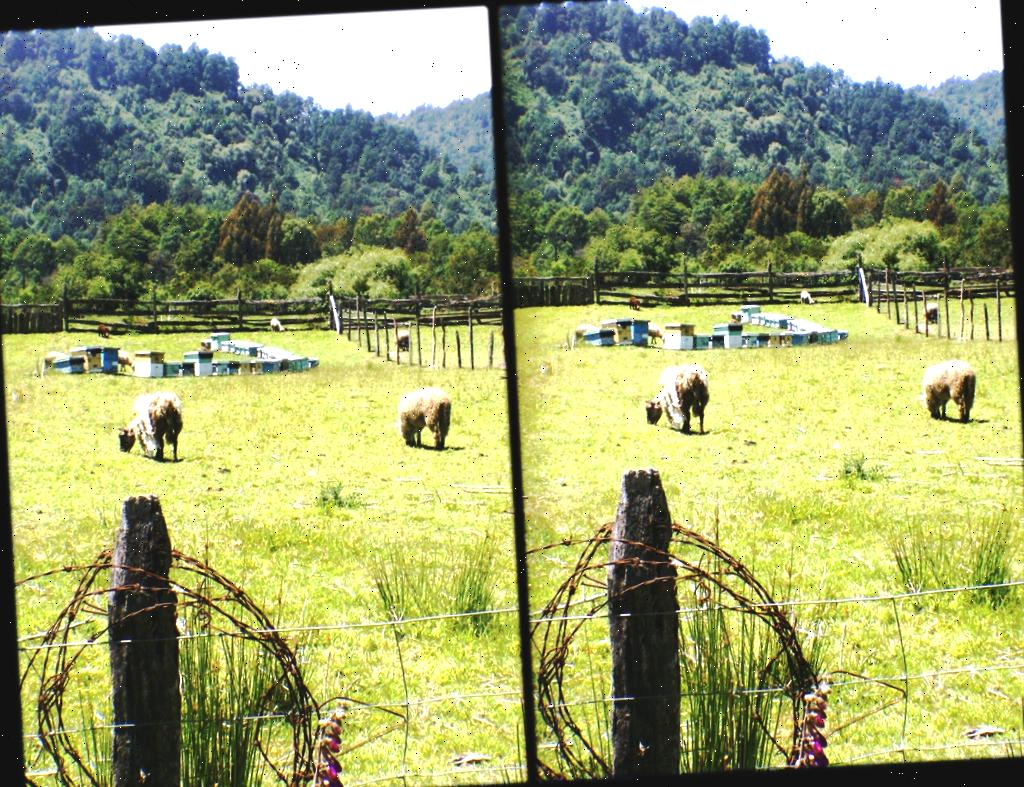Sheep: (112, 390, 184, 466), (643, 366, 712, 442), (399, 384, 452, 453), (920, 356, 976, 419)
